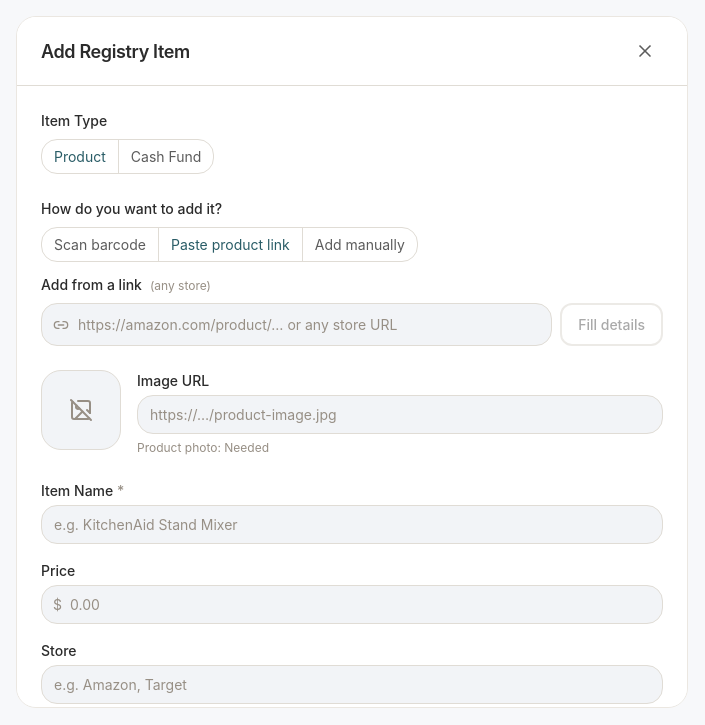
Scenario: RegistryItemForm › warns when a barcode match already exists in the registry
Click the button "Scan barcode".
click(100, 245)  # box [42,228,158,261]
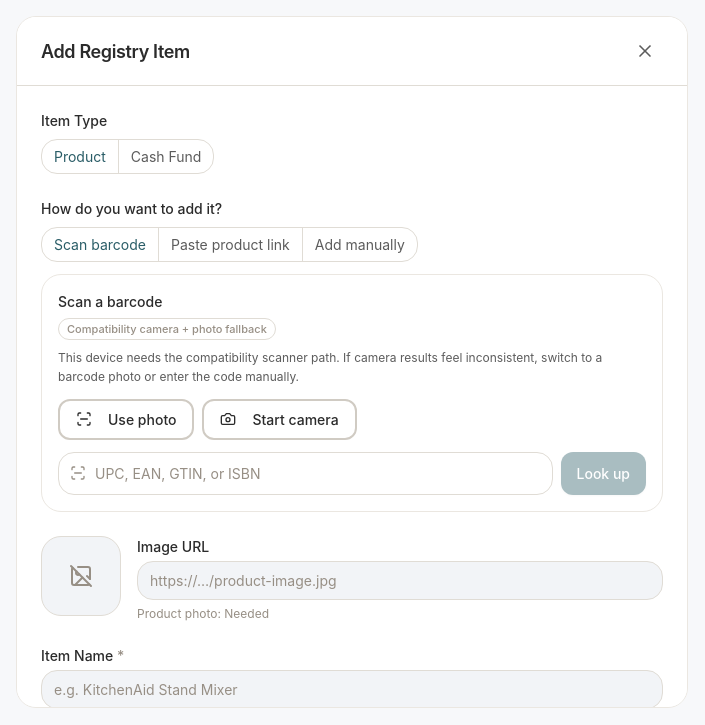
Type "036000291452" into the field with placeholder "UPC, EAN, GTIN, or ISBN".
click(305, 473); type("036000291452")  # box [58,452,552,495]
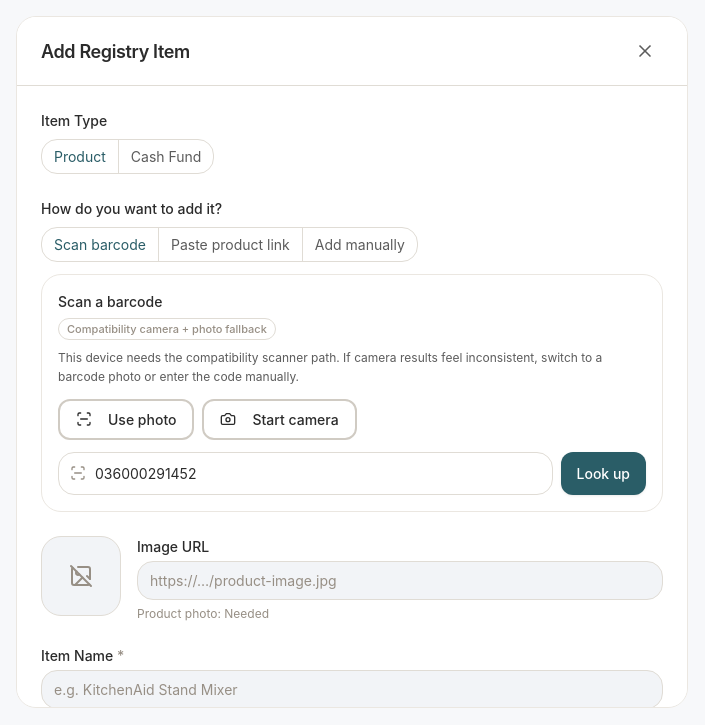
Click the button "Look up".
click(603, 473)  # box [560,452,646,495]
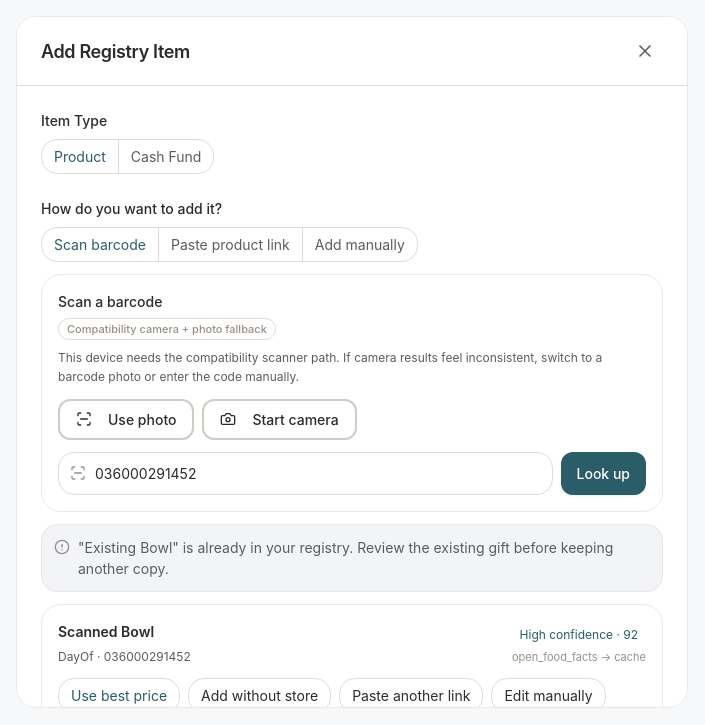
Now the text "review the existing gift before keeping another copy" is shown, box [78,539,613,577]
